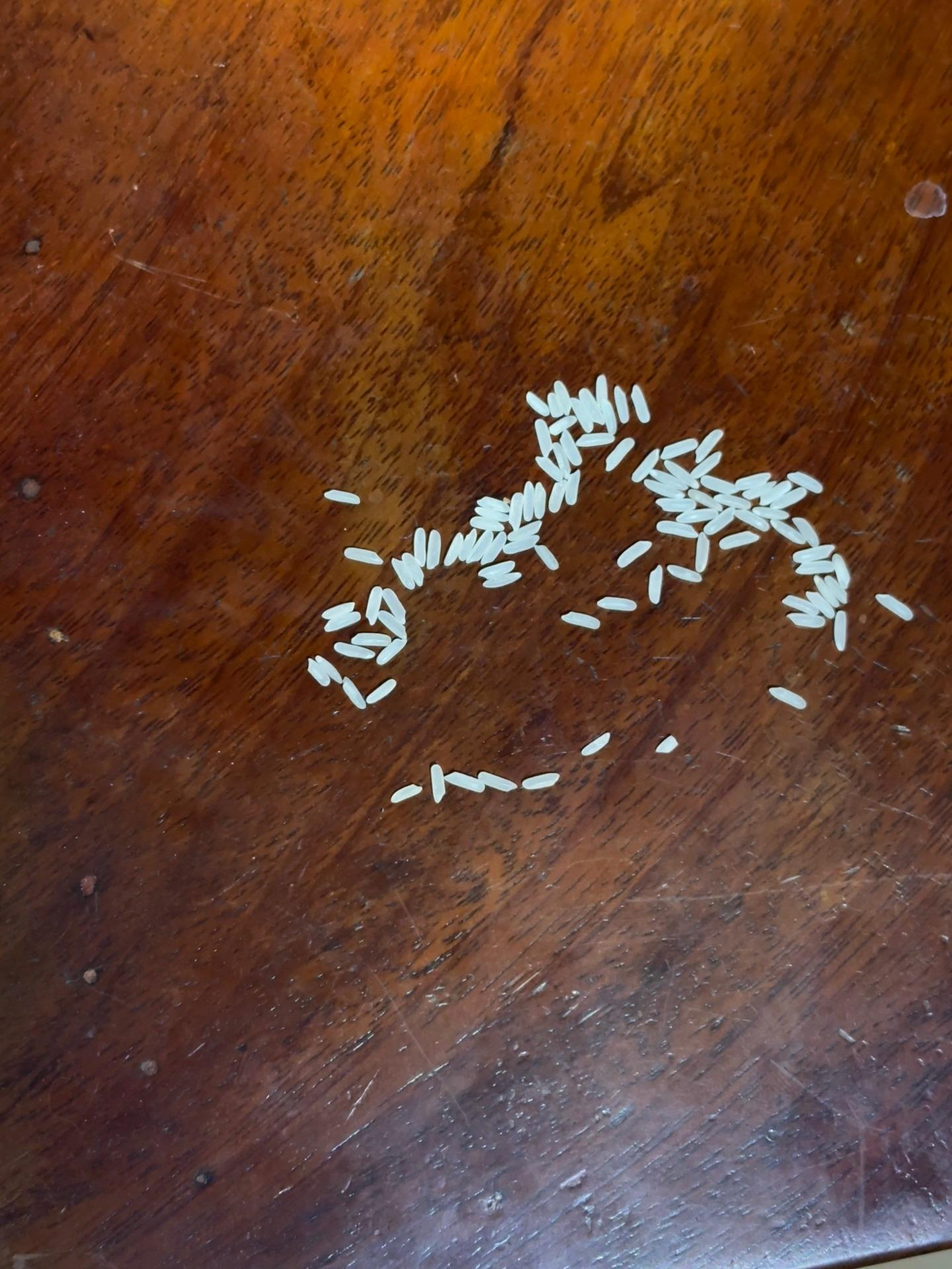Rice-th-y-nh: (694, 429, 724, 463), (876, 594, 914, 620), (631, 449, 660, 483), (579, 389, 605, 426), (605, 438, 634, 471), (616, 541, 652, 567), (663, 460, 696, 488), (770, 519, 805, 545), (467, 531, 494, 564), (690, 452, 722, 479), (383, 588, 406, 625), (378, 610, 407, 639), (445, 772, 485, 793), (704, 508, 735, 535), (813, 576, 840, 607), (769, 687, 807, 709), (478, 771, 517, 792), (376, 638, 406, 665), (793, 517, 820, 547), (788, 471, 823, 494), (560, 430, 583, 465), (482, 532, 507, 564), (771, 487, 807, 509), (806, 591, 834, 619), (793, 544, 834, 563), (571, 398, 593, 433), (342, 677, 366, 709), (391, 558, 415, 590), (760, 481, 792, 505), (783, 595, 819, 616), (651, 469, 687, 490), (316, 655, 342, 684), (367, 679, 397, 704), (735, 509, 769, 531), (688, 489, 722, 511), (402, 552, 424, 586), (644, 479, 683, 498), (334, 642, 375, 660), (509, 520, 542, 542), (631, 385, 650, 423), (325, 612, 361, 632), (719, 531, 759, 549), (661, 439, 697, 459), (535, 456, 563, 481), (504, 535, 539, 555), (581, 733, 611, 756), (701, 475, 735, 495), (657, 521, 697, 538), (824, 575, 848, 603), (715, 493, 752, 511), (563, 611, 600, 629), (535, 419, 553, 456), (832, 554, 851, 589), (483, 572, 522, 589), (458, 529, 478, 562), (552, 444, 572, 477), (677, 508, 718, 524), (479, 561, 515, 579), (735, 472, 771, 490), (787, 612, 825, 629), (667, 565, 702, 583), (344, 548, 383, 564), (412, 528, 428, 567), (307, 659, 330, 686), (523, 773, 559, 790), (444, 534, 463, 566), (648, 565, 664, 603), (535, 545, 559, 570), (351, 632, 391, 647), (833, 611, 848, 651), (600, 399, 617, 434), (565, 470, 582, 505), (614, 386, 630, 423), (366, 587, 382, 624), (430, 765, 446, 802), (532, 482, 548, 519), (391, 784, 422, 803), (657, 498, 696, 513), (753, 505, 789, 521), (549, 481, 567, 513), (796, 560, 834, 575), (576, 432, 614, 447), (322, 602, 355, 619), (696, 533, 710, 573), (509, 493, 524, 530), (526, 392, 549, 416), (743, 482, 772, 501), (598, 597, 637, 611), (477, 496, 509, 513), (470, 516, 503, 532), (554, 382, 571, 413), (427, 531, 441, 568), (550, 416, 575, 436), (325, 490, 360, 504), (475, 507, 505, 521), (524, 482, 535, 519), (656, 736, 678, 753), (547, 394, 562, 417)
